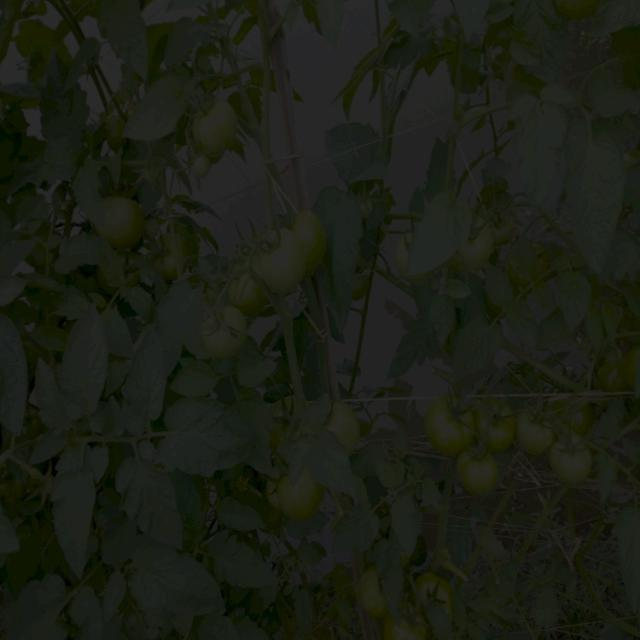tomato: (424, 390, 482, 457), (253, 232, 315, 293), (196, 303, 255, 360), (192, 94, 242, 160), (92, 192, 148, 250), (284, 209, 330, 272), (549, 425, 596, 478), (278, 469, 324, 518), (229, 270, 275, 316), (459, 448, 501, 496), (454, 221, 496, 269), (514, 405, 558, 450), (385, 602, 428, 640), (360, 562, 389, 618), (337, 400, 368, 452), (425, 566, 457, 610), (152, 228, 180, 277), (485, 398, 511, 449), (560, 398, 595, 435), (598, 353, 627, 395), (269, 401, 301, 437), (105, 111, 133, 149), (395, 231, 417, 273), (557, 1, 602, 21), (493, 209, 519, 243), (622, 345, 640, 392), (264, 478, 282, 508), (358, 193, 373, 219)
